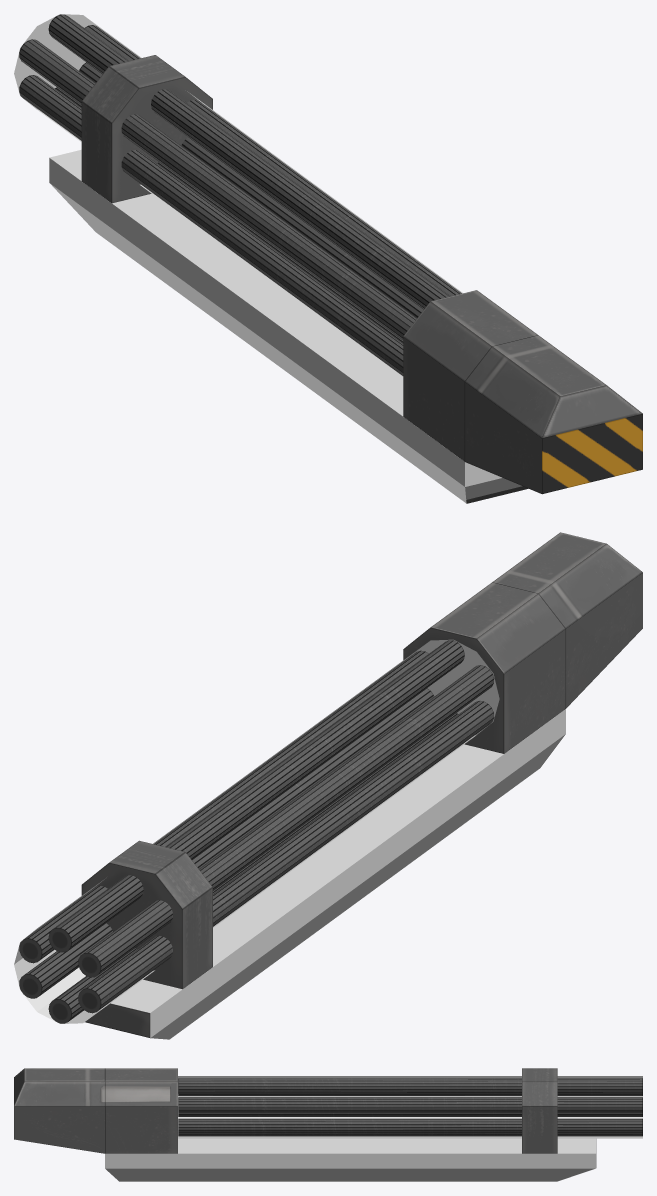
Rendered from minigun.glb.
The picture shows the model from 3 angles, top to bottom: view 1: azimuth 30°, elevation 25°; view 2: azimuth 150°, elevation 25°; view 3: azimuth 270°, elevation 25°; orthographic projection. The views are drawn at different scales.
Parts seen in each view (by area): view 1: minigun_body, minigun_barrels, minigun_convcolonly1, minigun_convcolonly2; view 2: minigun_barrels, minigun_body, minigun_convcolonly1, minigun_convcolonly2; view 3: minigun_barrels, minigun_convcolonly1, minigun_body, minigun_convcolonly2.
Boxes of the visible parts, x1,y1,x2,y2 form: minigun_body: (81,55,642,503); minigun_barrels: (19,14,461,375); minigun_convcolonly1: (49,149,522,503); minigun_convcolonly2: (14,14,462,377); minigun_barrels: (19,640,494,1023); minigun_body: (81,532,642,1037); minigun_convcolonly1: (110,709,565,1039); minigun_convcolonly2: (14,639,499,1023); minigun_barrels: (178,1078,642,1136); minigun_convcolonly1: (105,1138,595,1181); minigun_body: (14,1068,596,1167); minigun_convcolonly2: (178,1076,642,1138).
Size of what is drawn, in the model's own units: 0.2968 by 0.4565 by 2.71.
Materials: 1 (1 with a texture image).
